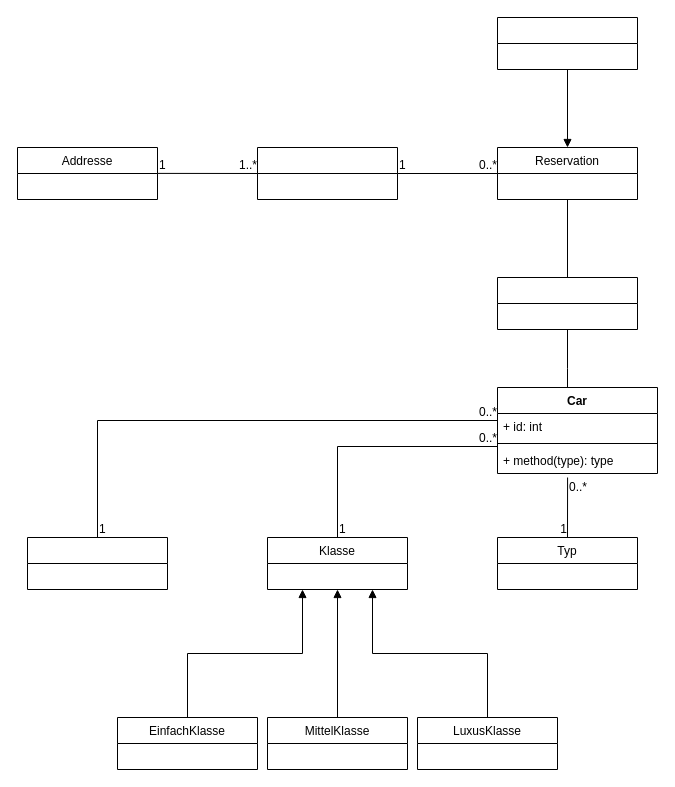
This 675x787 diagram has some shape labels left out. The centre of each missing label's shape, as x and y in pixels:
"Kunde" belongs at point (327, 173).
"Marke" belongs at point (97, 563).
"Verfügbarkeit" belongs at point (567, 303).
"Vertrag" belongs at point (567, 43).
